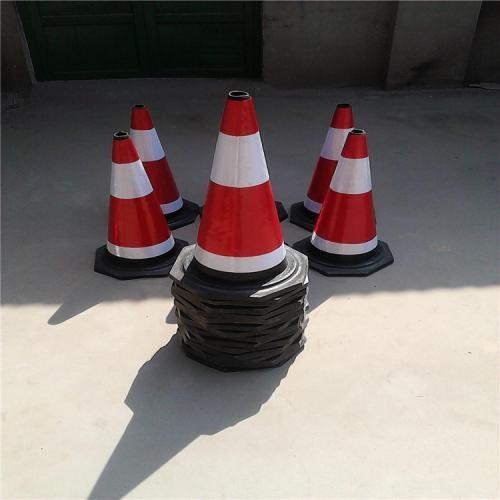cone_barrel: (184, 96, 293, 284), (305, 114, 388, 269), (93, 128, 175, 276), (300, 103, 366, 227), (119, 104, 183, 228)
